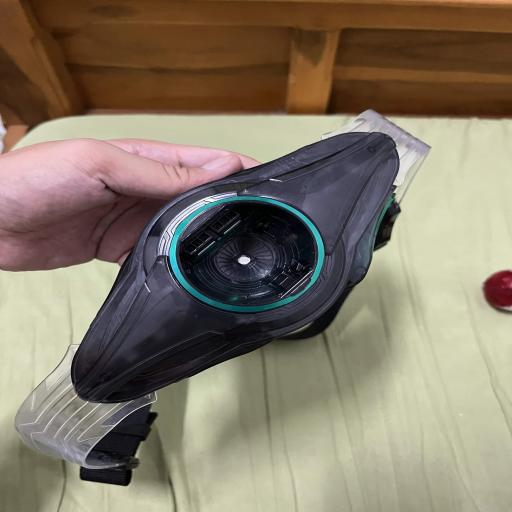zeztzdriver: (16, 110, 430, 484)
